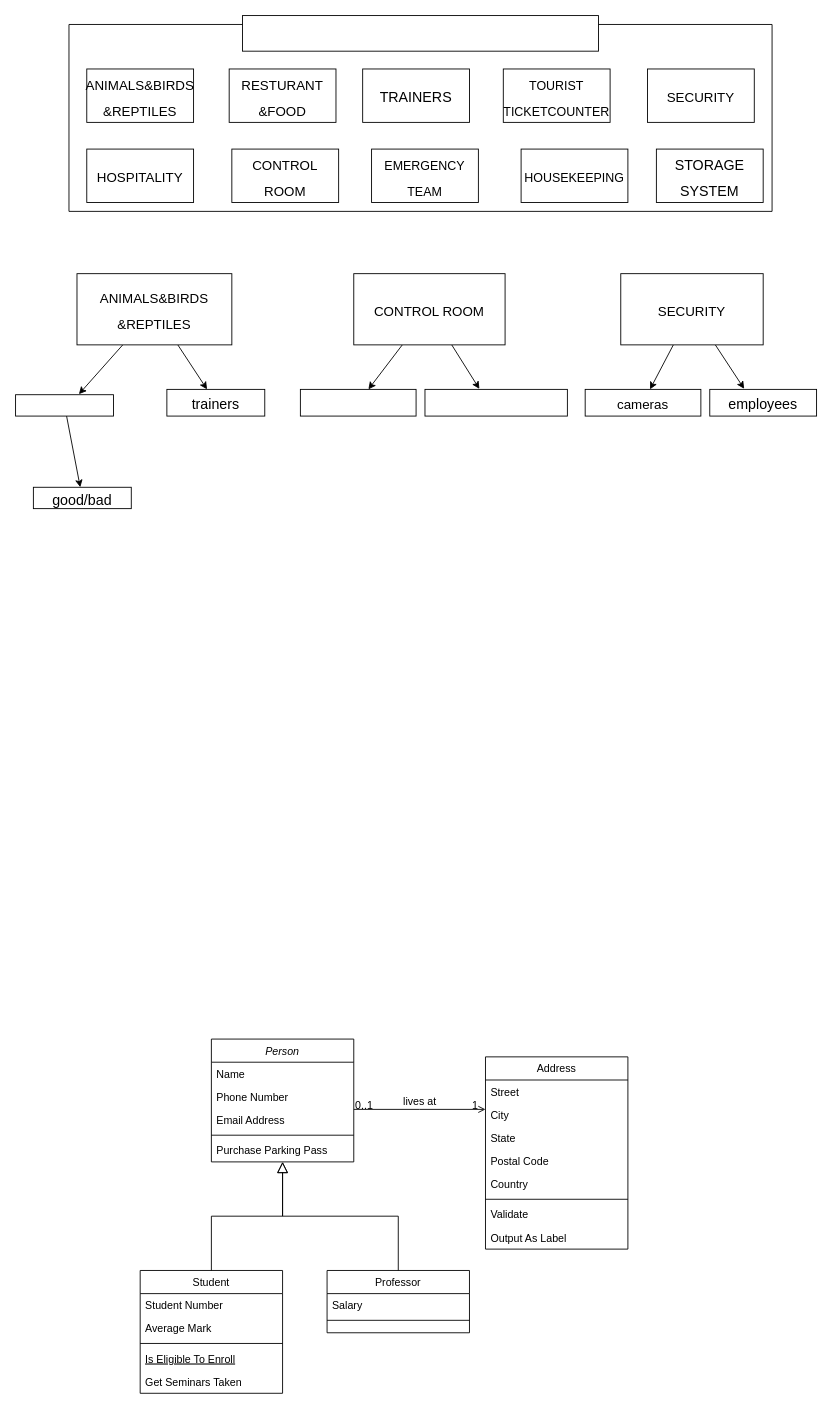
Image size: 832x1412. Some labels were removed from this diagram. Each missing label, with the centre of its shape:
finance management: pixel 495 402
health: pixel 64 405
team members: pixel 357 402
ZOO MANAGEMENT SYSTEM: pixel 420 33
